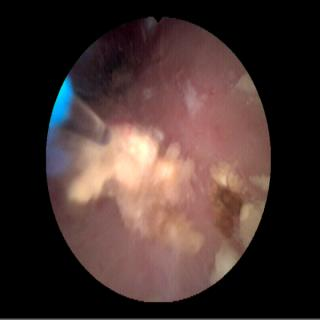fiber: (51, 78, 72, 127)
stone: (65, 125, 203, 250), (210, 242, 238, 284), (211, 162, 244, 193), (241, 199, 262, 245)
